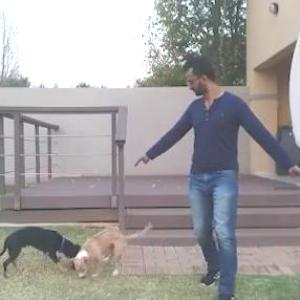land: (134, 56, 299, 290)
